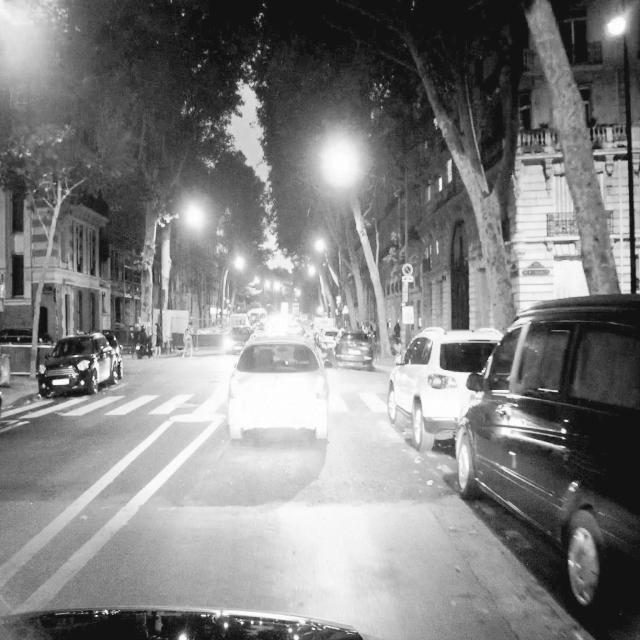Car: (452, 294, 639, 634), (382, 323, 509, 454), (218, 332, 326, 441)
Tree: (406, 0, 520, 319), (521, 0, 610, 288), (27, 163, 84, 381), (345, 188, 399, 354)
